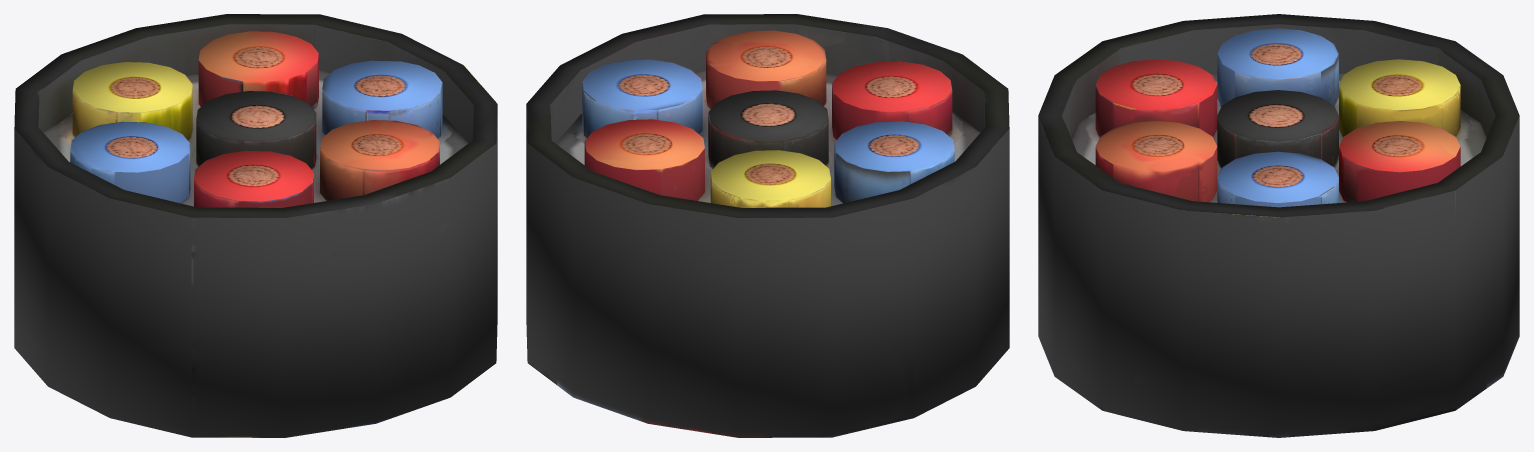
File: wire_RE.fbx
3 views of the same model, side by side, from view 1: azimuth 30°, elevation 25°; view 2: azimuth 150°, elevation 25°; view 3: azimuth 270°, elevation 25° (orthographic).
Visible parts, largest first — view 1: Mesh_0; view 2: Mesh_0; view 3: Mesh_0.
Boxes of the visible parts, bbox=[...] form: Mesh_0: bbox=[14, 14, 497, 437]; Mesh_0: bbox=[526, 14, 1009, 437]; Mesh_0: bbox=[1038, 14, 1519, 437].
Bounding box in the file's own units: 200 × 101 × 200.
1 material, 1 textured.
